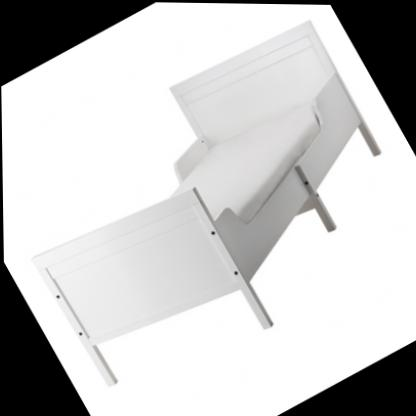Bed: (0, 5, 416, 416)
